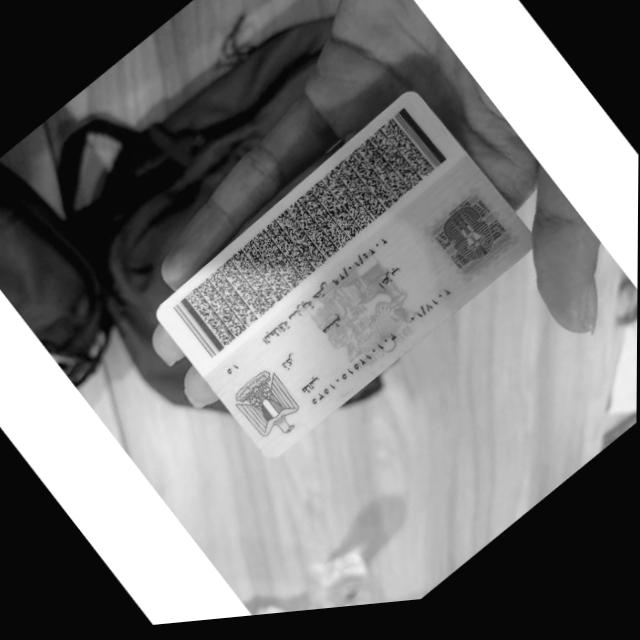id_card: (156, 92, 530, 456)
